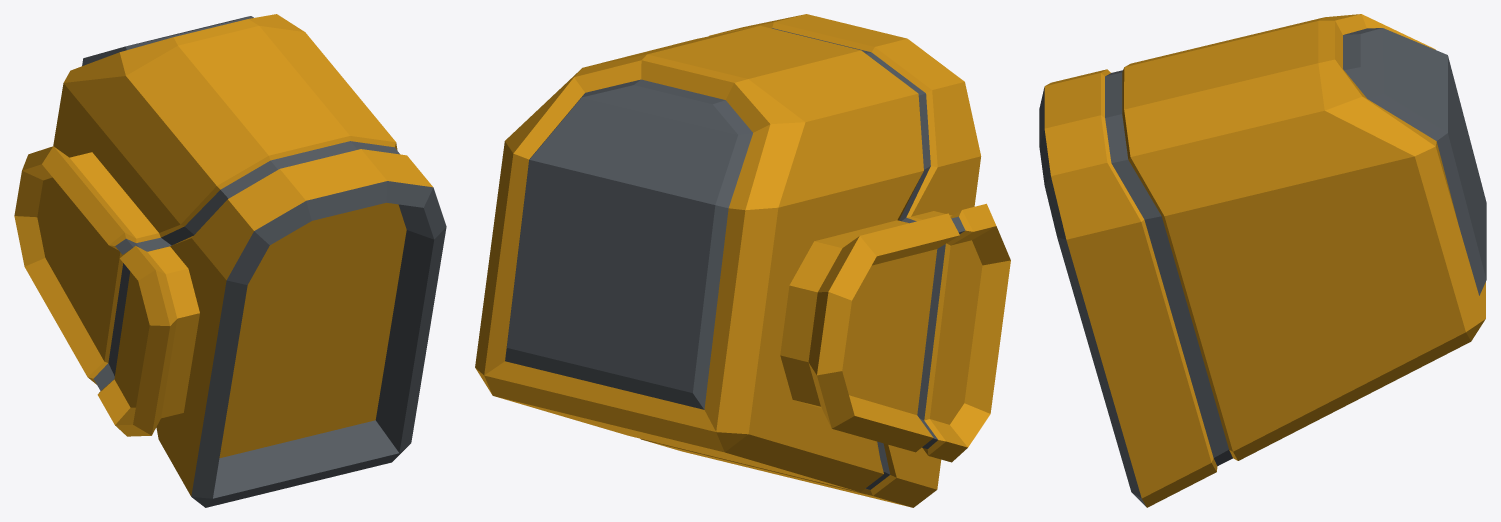
The model's file is Dropship_02_Light_Mount_Yellow.fbx.
3 renders of one model, left to right at view 1: azimuth 30°, elevation 25°; view 2: azimuth 150°, elevation 25°; view 3: azimuth 270°, elevation 25°, orthographic. The views are drawn at different scales.
Visible parts, largest first — view 1: Dropship_02_Light_Mount_Yellow; view 2: Dropship_02_Light_Mount_Yellow; view 3: Dropship_02_Light_Mount_Yellow.
Boxes of the visible parts, left/top/right/bottom form: Dropship_02_Light_Mount_Yellow: left=14, top=14, right=446, bottom=507; Dropship_02_Light_Mount_Yellow: left=475, top=14, right=1010, bottom=507; Dropship_02_Light_Mount_Yellow: left=1039, top=14, right=1486, bottom=507.
Bounding box in the file's own units: 185 × 256 × 248.
1 material, 1 textured.
